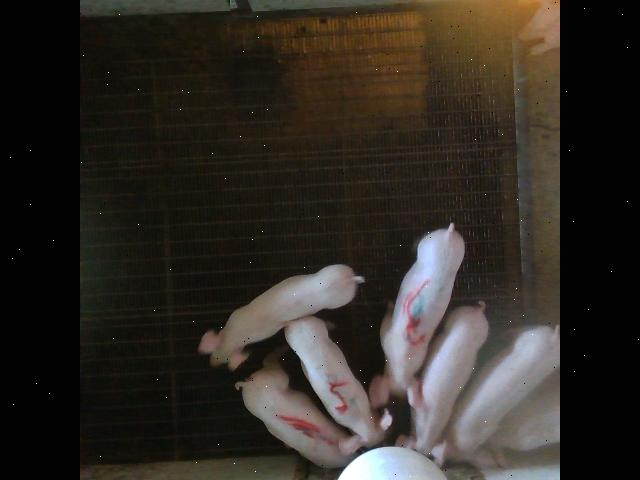pig-1: (236, 350, 352, 466)
pig-3: (369, 222, 464, 408)
pig-5: (286, 315, 392, 454)
